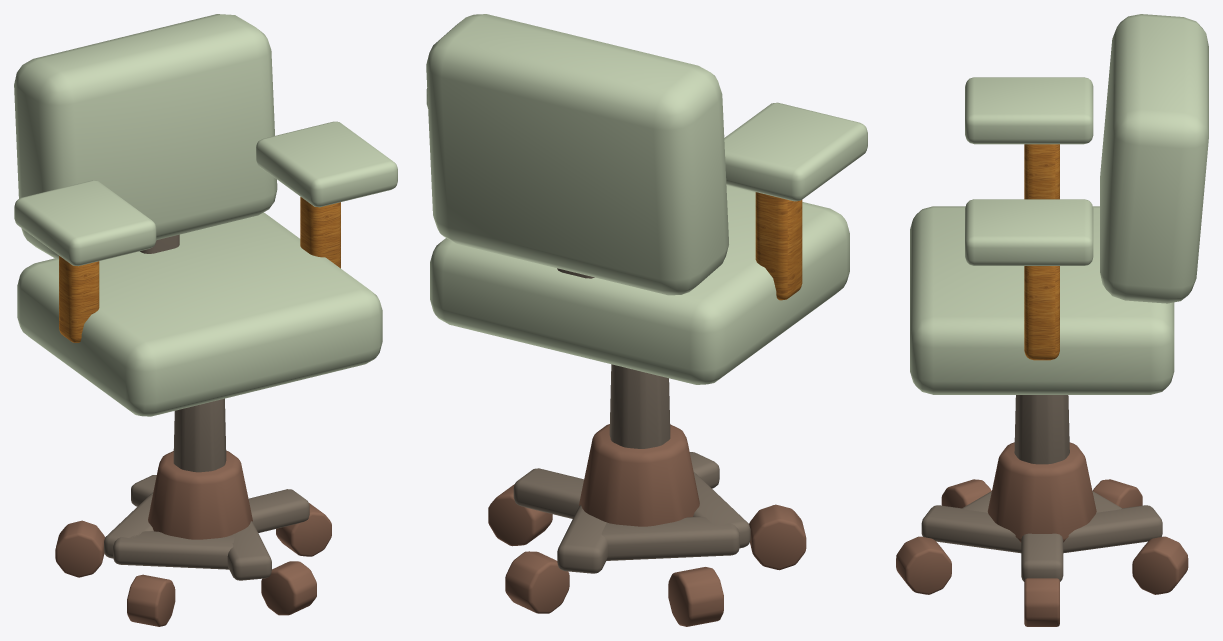
The model's file is office-chair.glb.
3 renders of one model, left to right at view 1: azimuth 30°, elevation 25°; view 2: azimuth 150°, elevation 25°; view 3: azimuth 270°, elevation 25°, orthographic. The views are drawn at different scales.
Parts seen in each view (by area): view 1: office-chair; view 2: office-chair; view 3: office-chair.
Part boxes in pixels (left/top/right/bottom): office-chair: left=14, top=14, right=397, bottom=626; office-chair: left=426, top=14, right=867, bottom=626; office-chair: left=896, top=14, right=1208, bottom=626.
Size of the model in its own units: 0.6061 by 0.8698 by 0.4839.
Materials: 4 (1 with a texture image).
